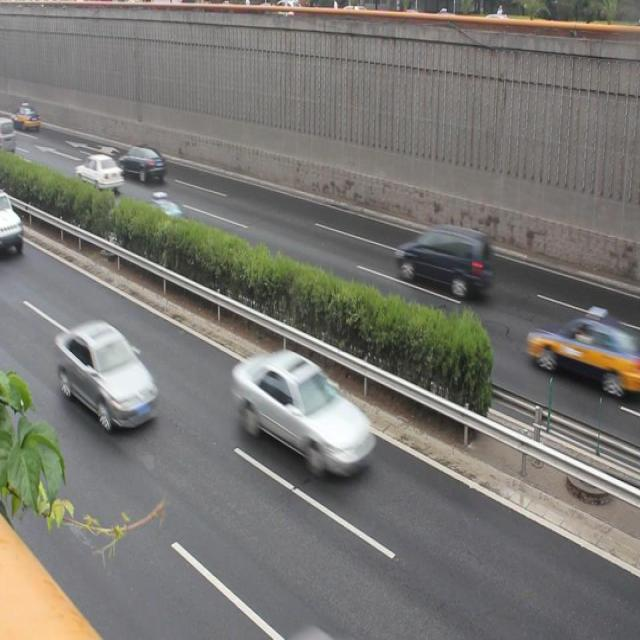car: (234, 348, 375, 475), (57, 323, 159, 428), (529, 309, 628, 391), (125, 197, 192, 249), (118, 144, 166, 182), (77, 154, 125, 192), (1, 191, 24, 258)
truck: (394, 222, 489, 298)
